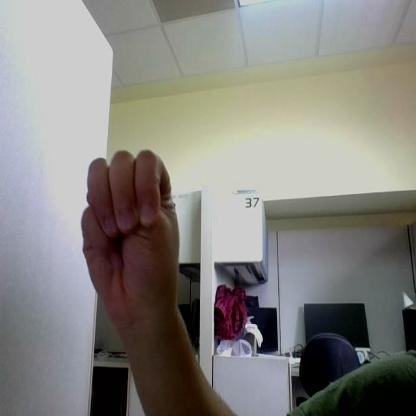M: (83, 150, 180, 324)
